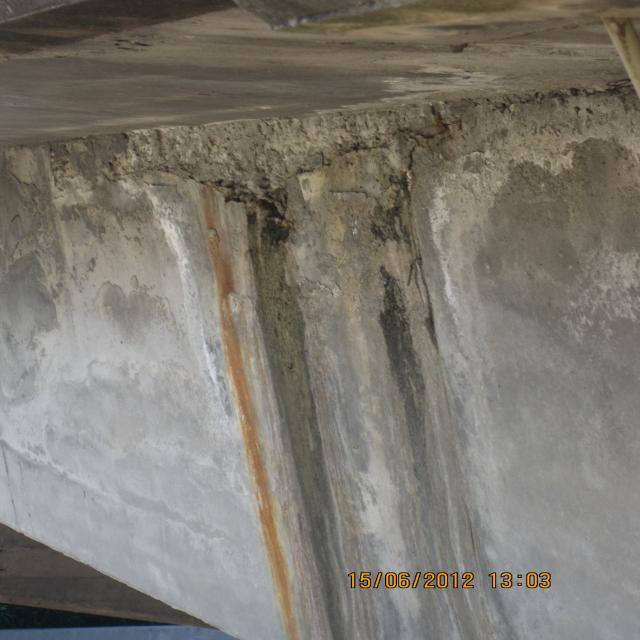corrosion: (188, 172, 334, 640), (415, 102, 469, 141)
